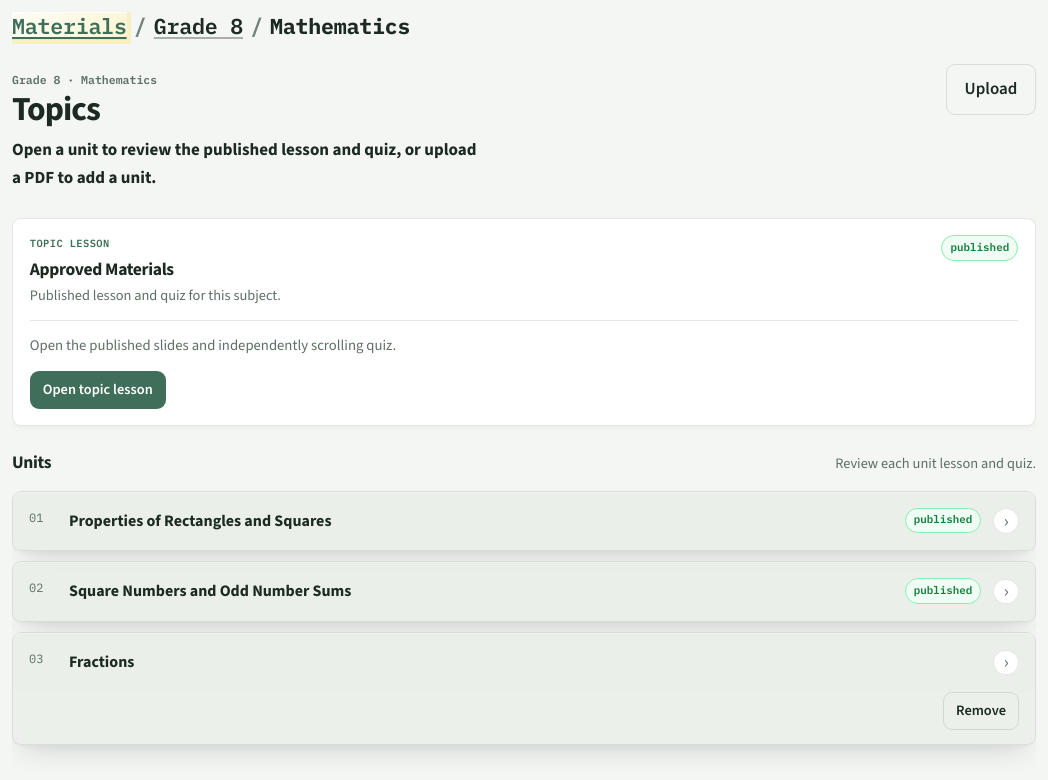
Test case: AdminMaterialsTopicsPage › removes an unpublished unit and leaves published units
The width and height of the screenshot is (1048, 780).
Expected: the text "Properties of Rectangles and Squares" is shown, [69,510,332,531]
What coordinates should you click on to do the following:
click the button "Remove"
I would click on:
 (981, 711)
Its box is [943,692,1019,730].
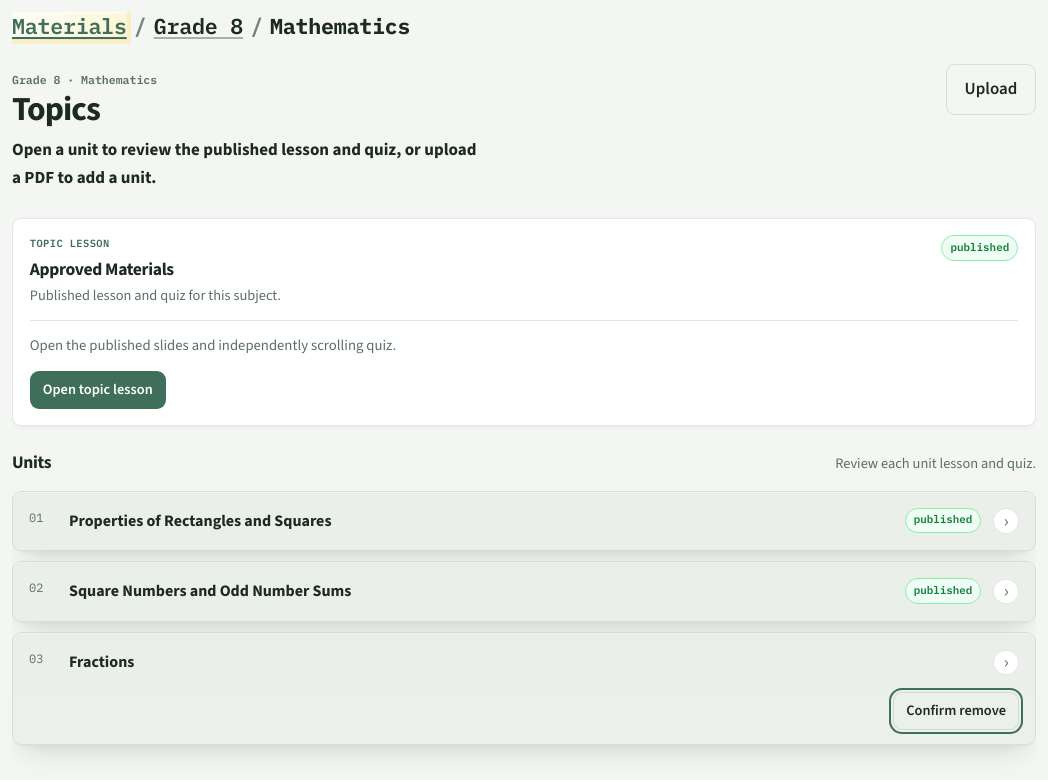
What coordinates should you click on to do the following:
click the button "Confirm remove"
I would click on:
 (956, 711)
Its box is [893,692,1019,730].
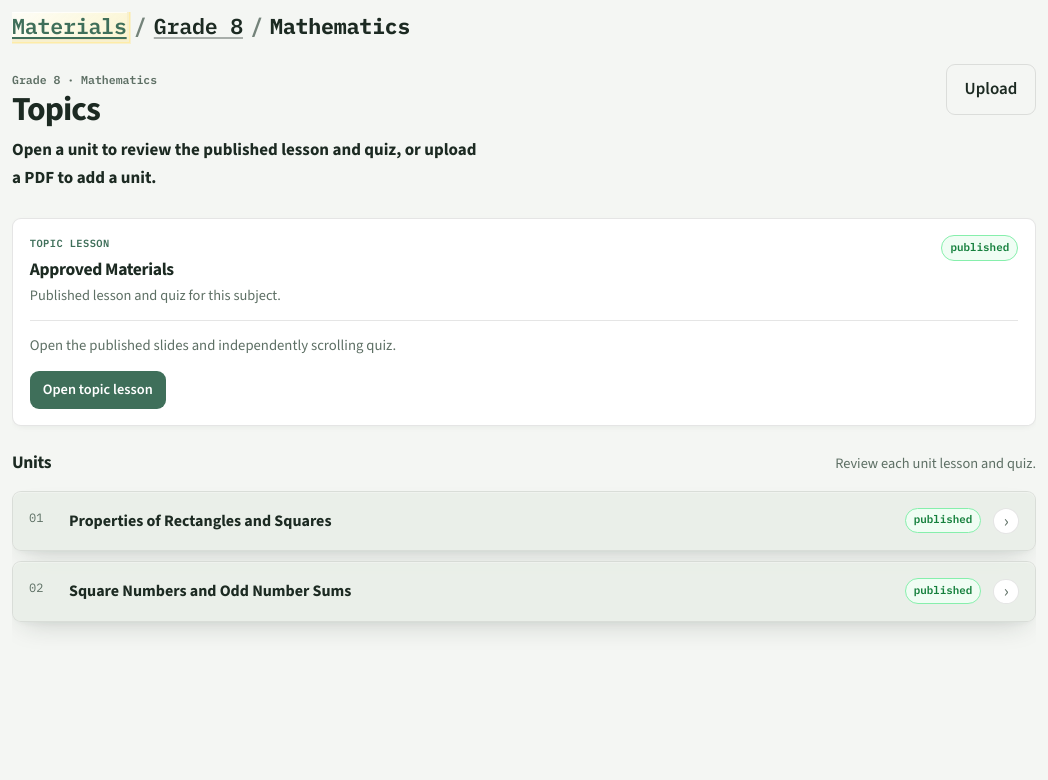
Expected: the text "Properties of Rectangles and Squares" is shown, [69,510,332,531]
Result: the link "Fractions" is gone
